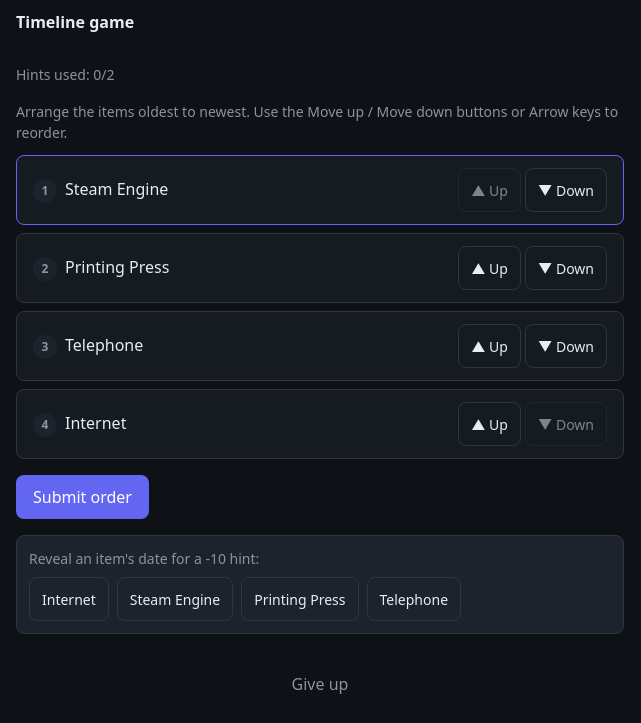
Test: TimelineGame — give up › ends the round with score 0 and reveals the correct order
Click the button "Give up" at {"x": 320, "y": 684}, box [16,662,624,706]
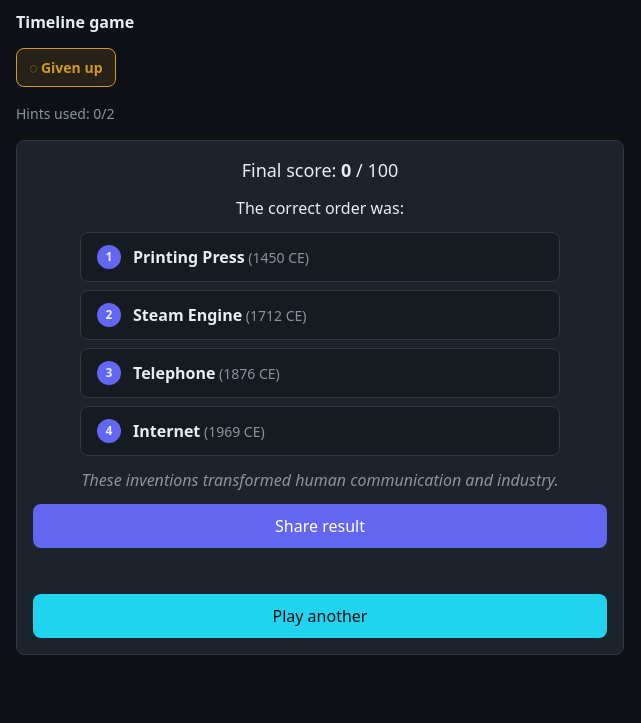
Now the text "The correct order was:" is shown, box [236,197,404,219]
Now the text "0" is shown, box [341,158,351,182]
Now the text "(1450 CE)" is shown, box [245,248,309,267]
